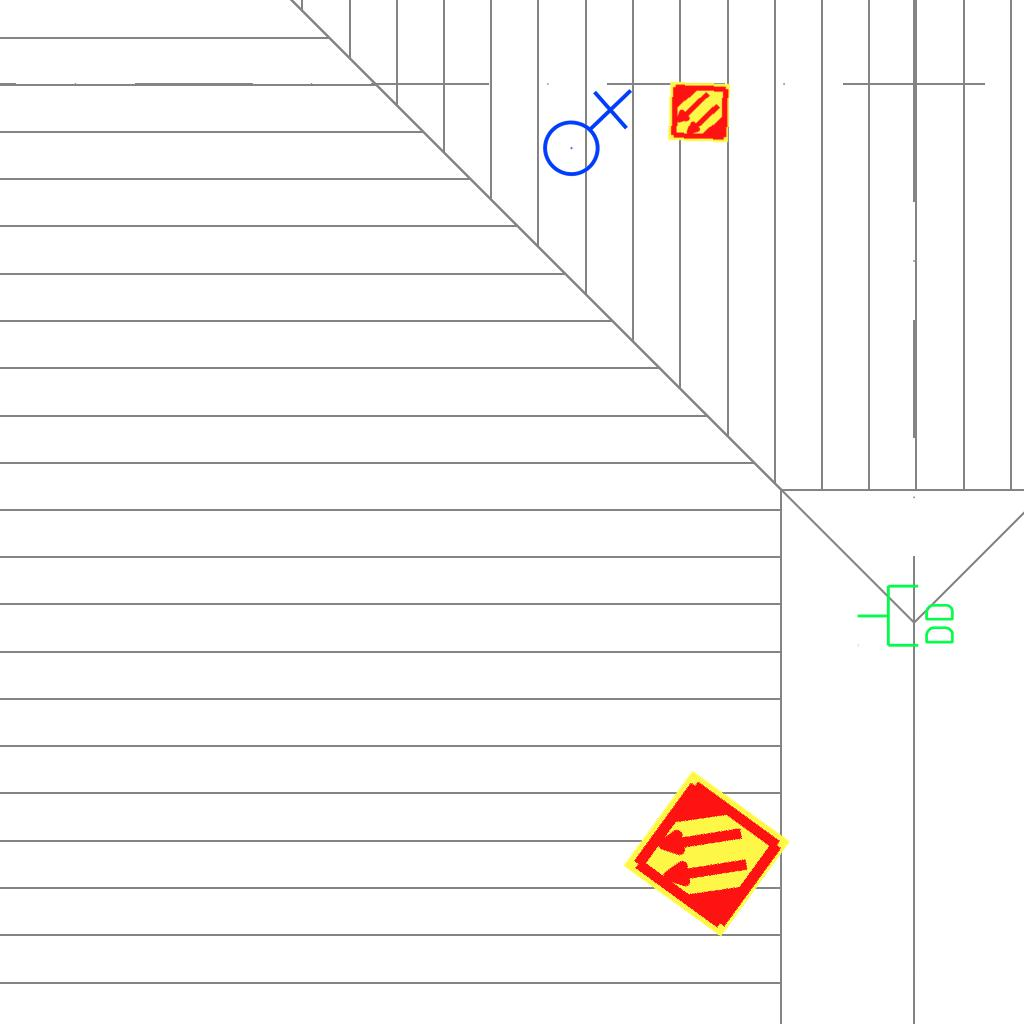ASR_Ansaugrauchmelder: (619, 766, 794, 941), (666, 79, 732, 145)
Datenanschluss_zweifach: (855, 582, 958, 651)
Elektroanschluss_allgemein_230V_Geraeteanschlussdose_230V: (534, 84, 633, 178)
